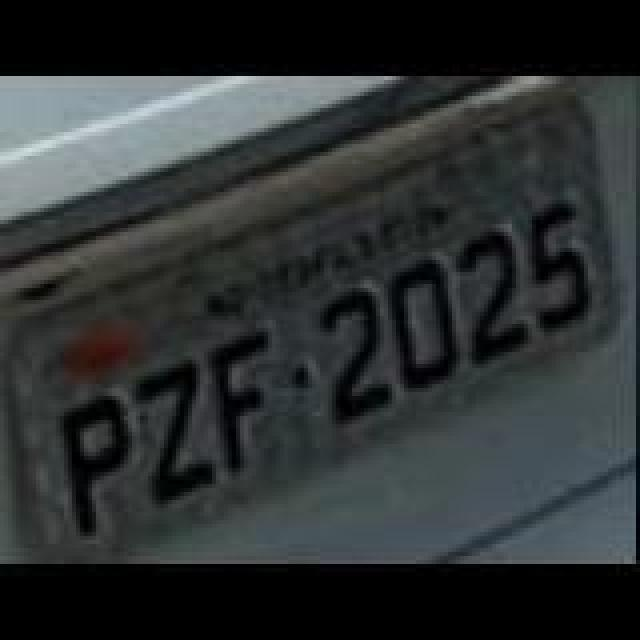2: (316, 290, 400, 430), (456, 224, 532, 368)
5: (520, 194, 596, 334)
F: (210, 328, 282, 480)
O: (396, 260, 464, 396)
P: (64, 392, 140, 536)
Z: (140, 360, 224, 504)
